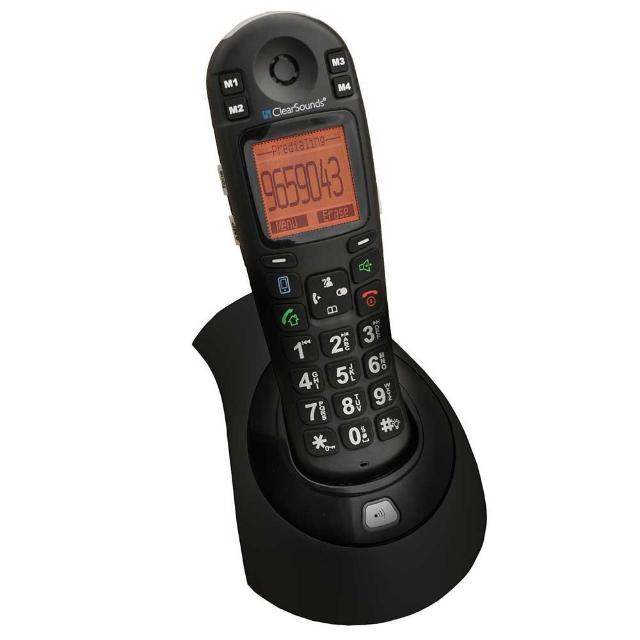Telephone-Set: (148, 0, 486, 628)
